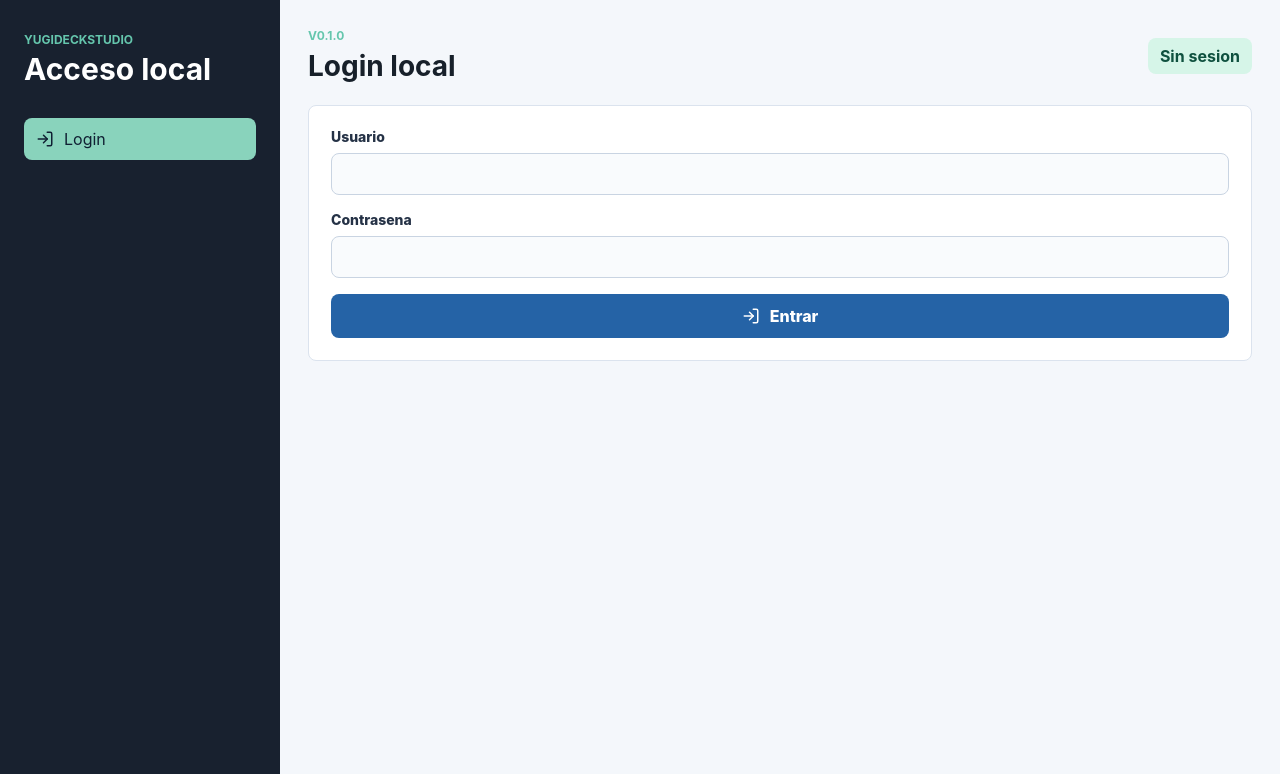
Test case: App › loads events and tournaments from catalogs
The image size is (1280, 774).
Type "admin" into the field labelled "Usuario".
click(780, 174); type("admin")  # box [331, 153, 1229, 195]
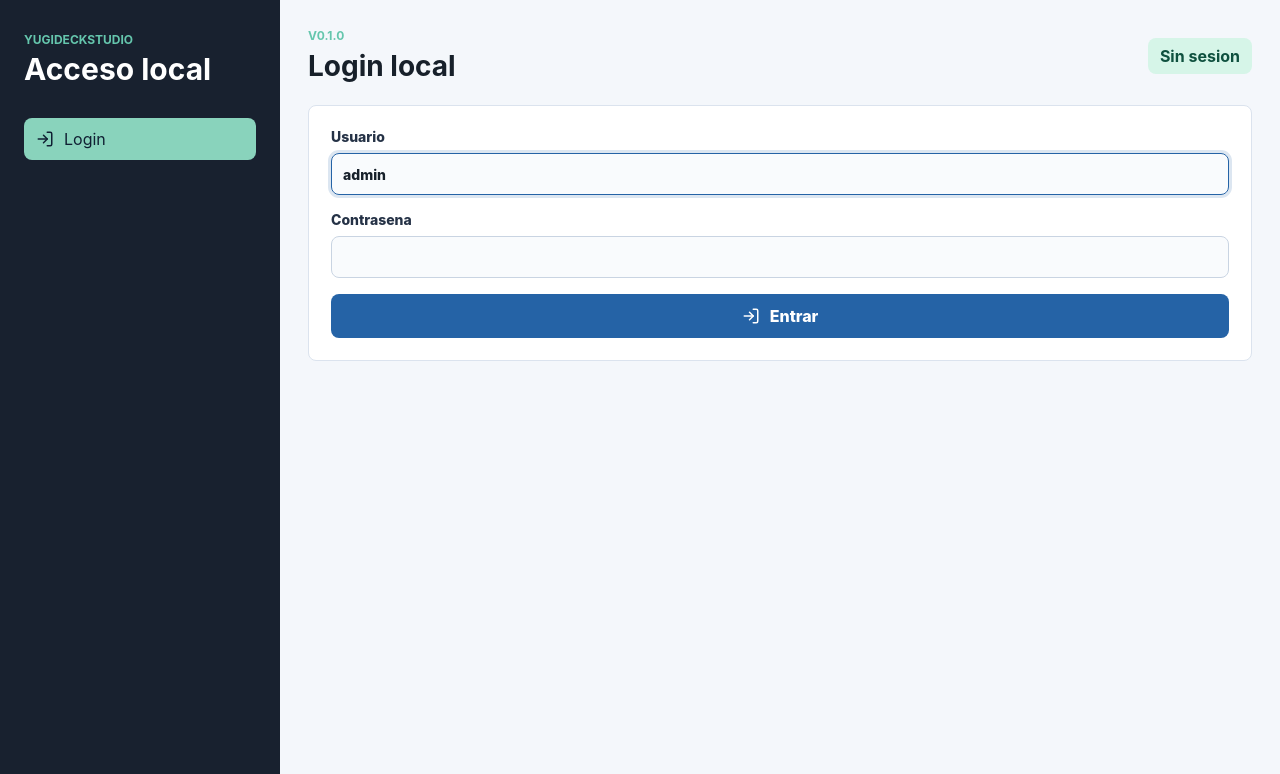
Type "Admin123!" into the password field labelled "Contrasena".
click(780, 257); type("Admin123!")  # box [331, 236, 1229, 278]
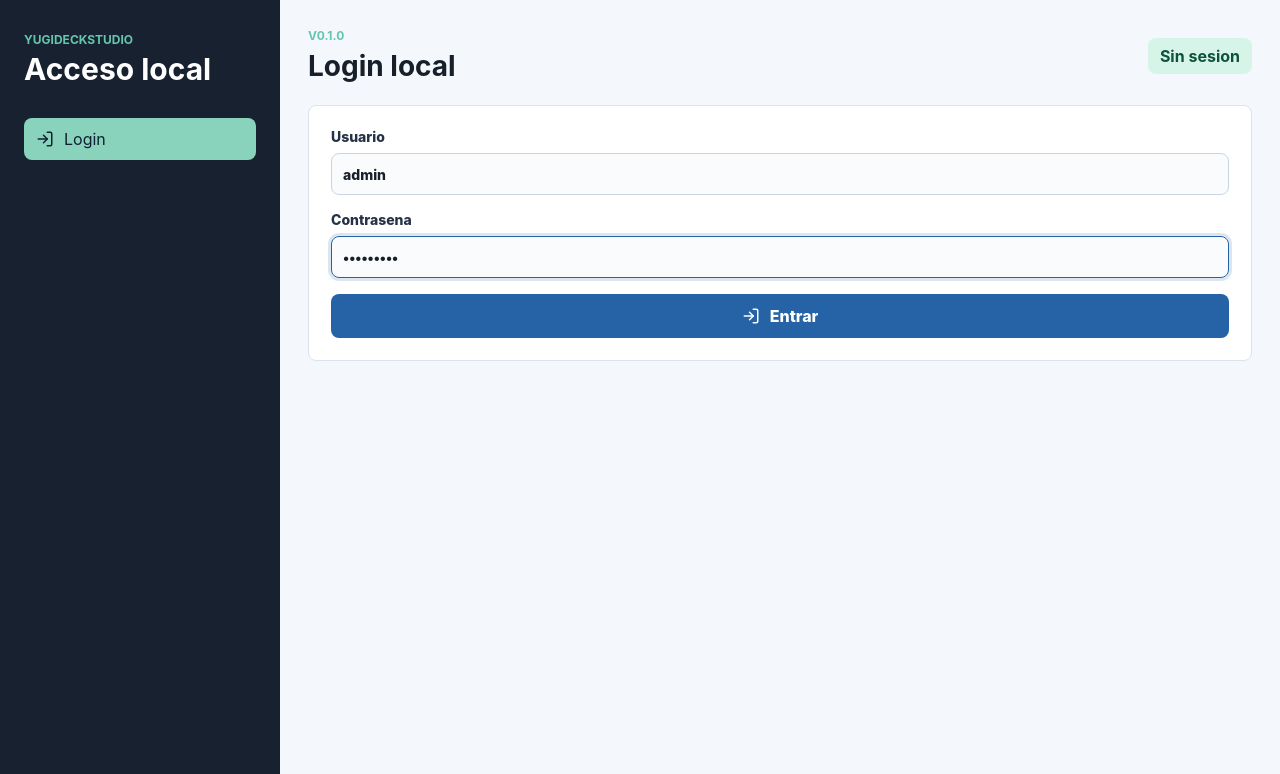
Click the button "Entrar".
click(780, 316)  # box [331, 294, 1229, 338]
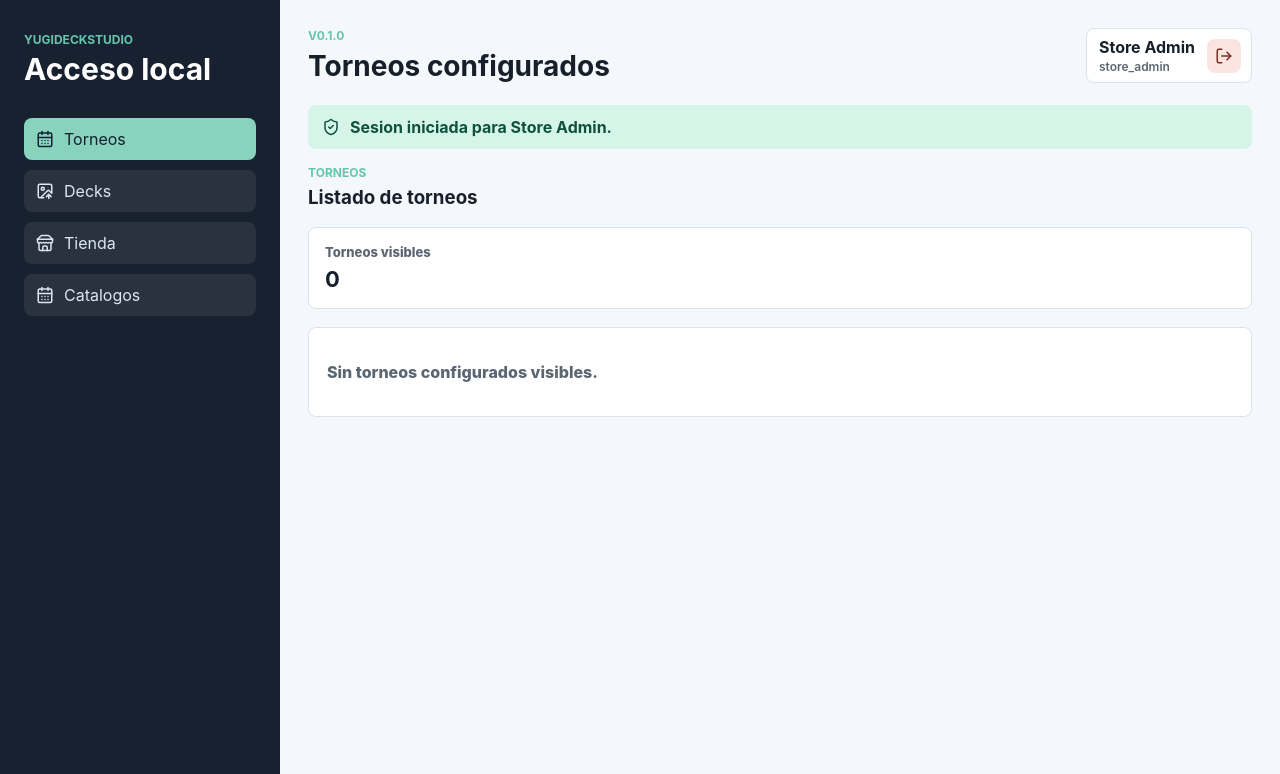
Click the button "Catalogos".
click(140, 295)  # box [24, 274, 256, 316]
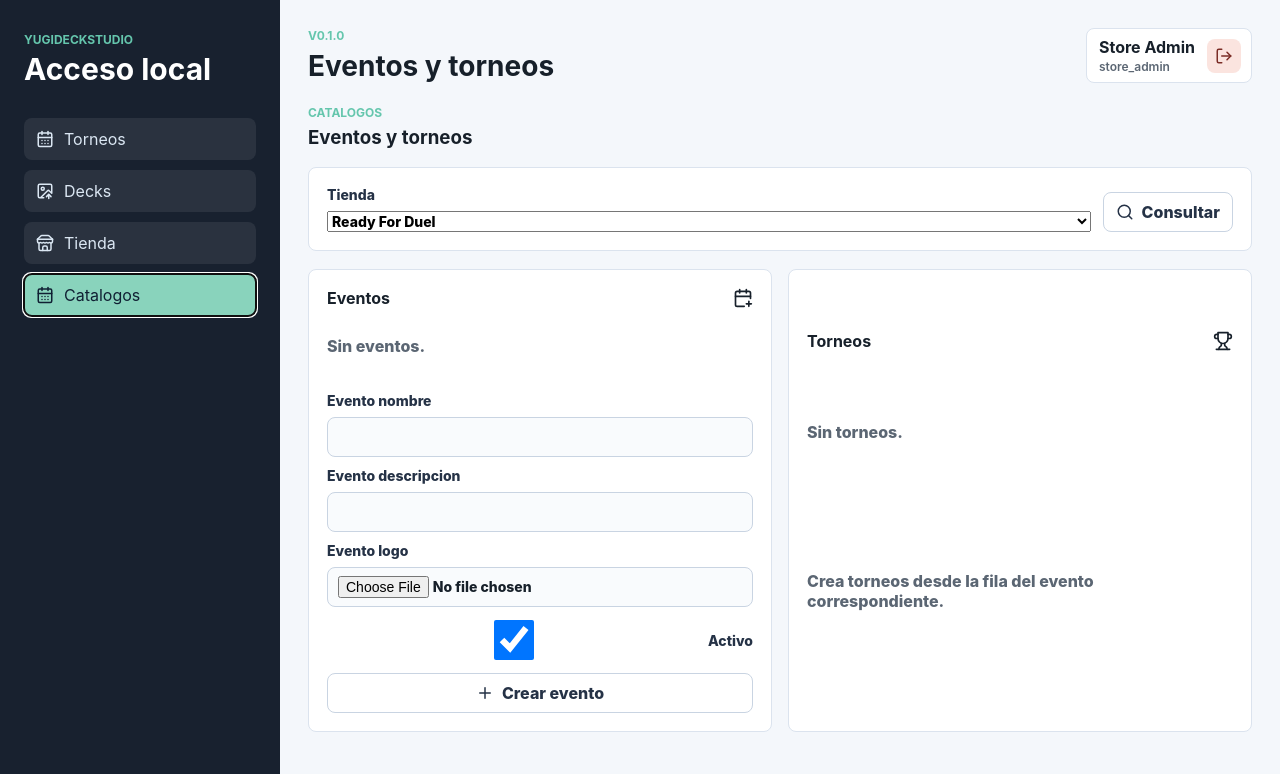
Expected: the heading "Eventos y torneos" below "v0.1.0" is shown, [308, 49, 554, 83]
Click the button "Consultar".
click(1168, 212)  # box [1103, 192, 1233, 232]
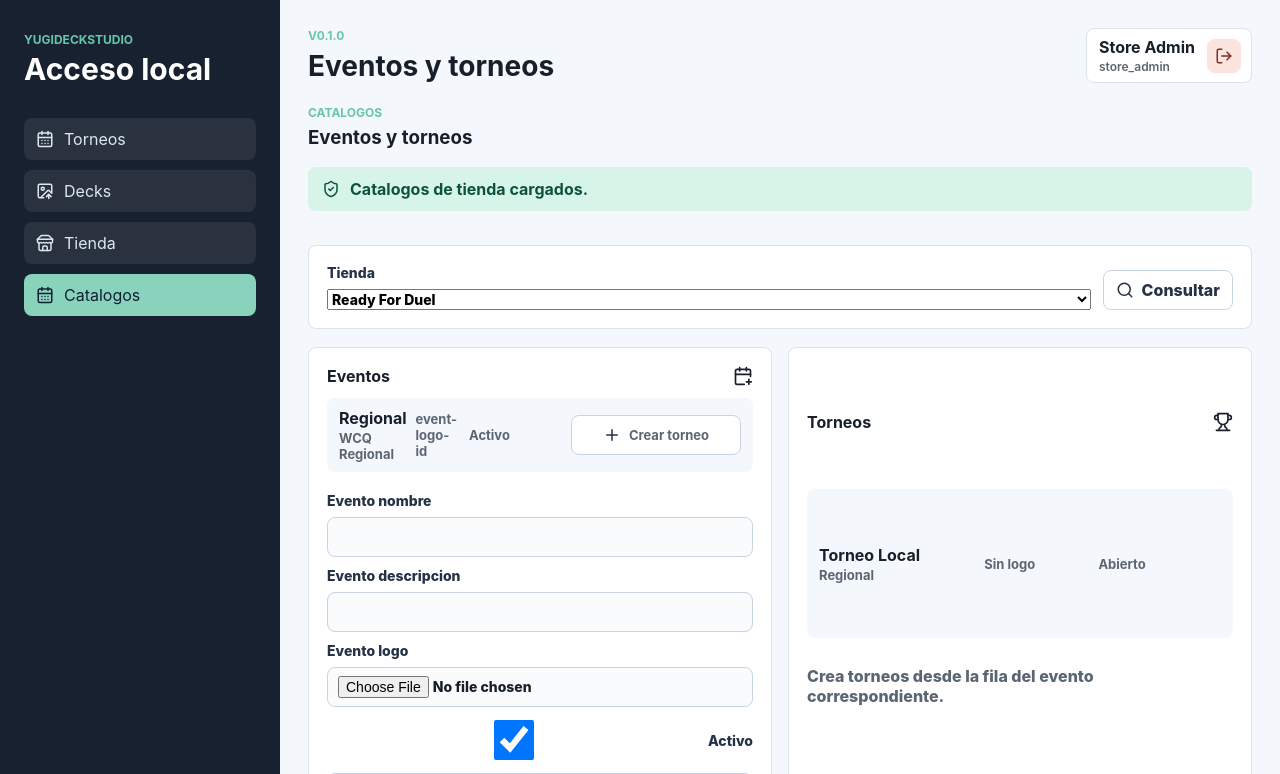
Expected: the text "Catalogos de tienda cargados." is shown, [350, 179, 588, 199]
Expected: the text "WCQ Regional" is shown, [339, 430, 394, 462]
Expected: the text "Torneo Local" is shown, [819, 544, 920, 564]
